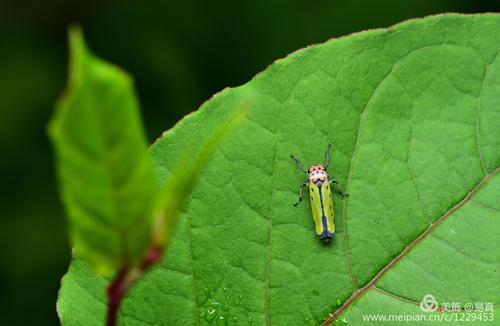Cicadellidae: (289, 144, 347, 244)
